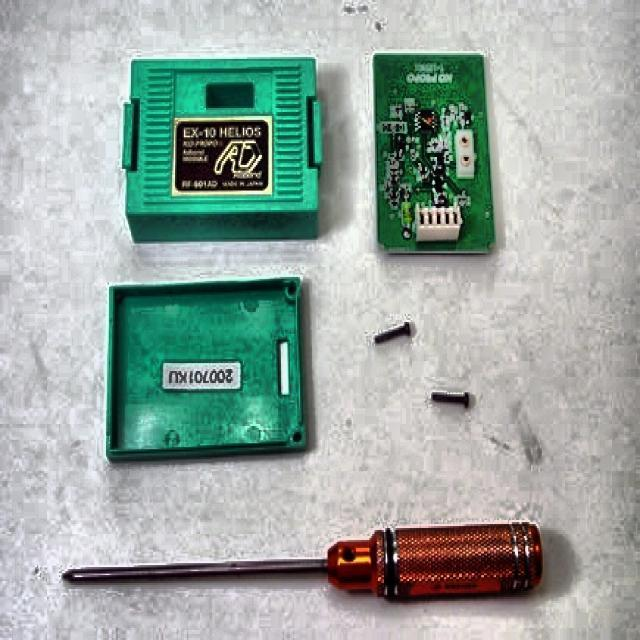screwdriver: (61, 522, 544, 602)
